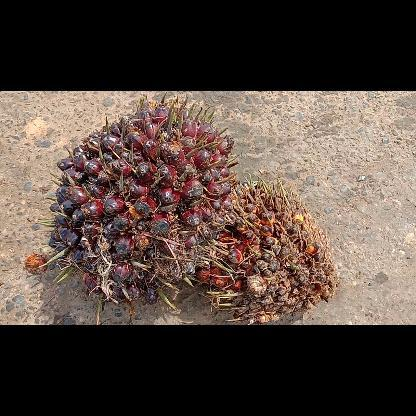Kurang masak: (36, 92, 238, 324)
TBS abnormal: (194, 172, 338, 324)
